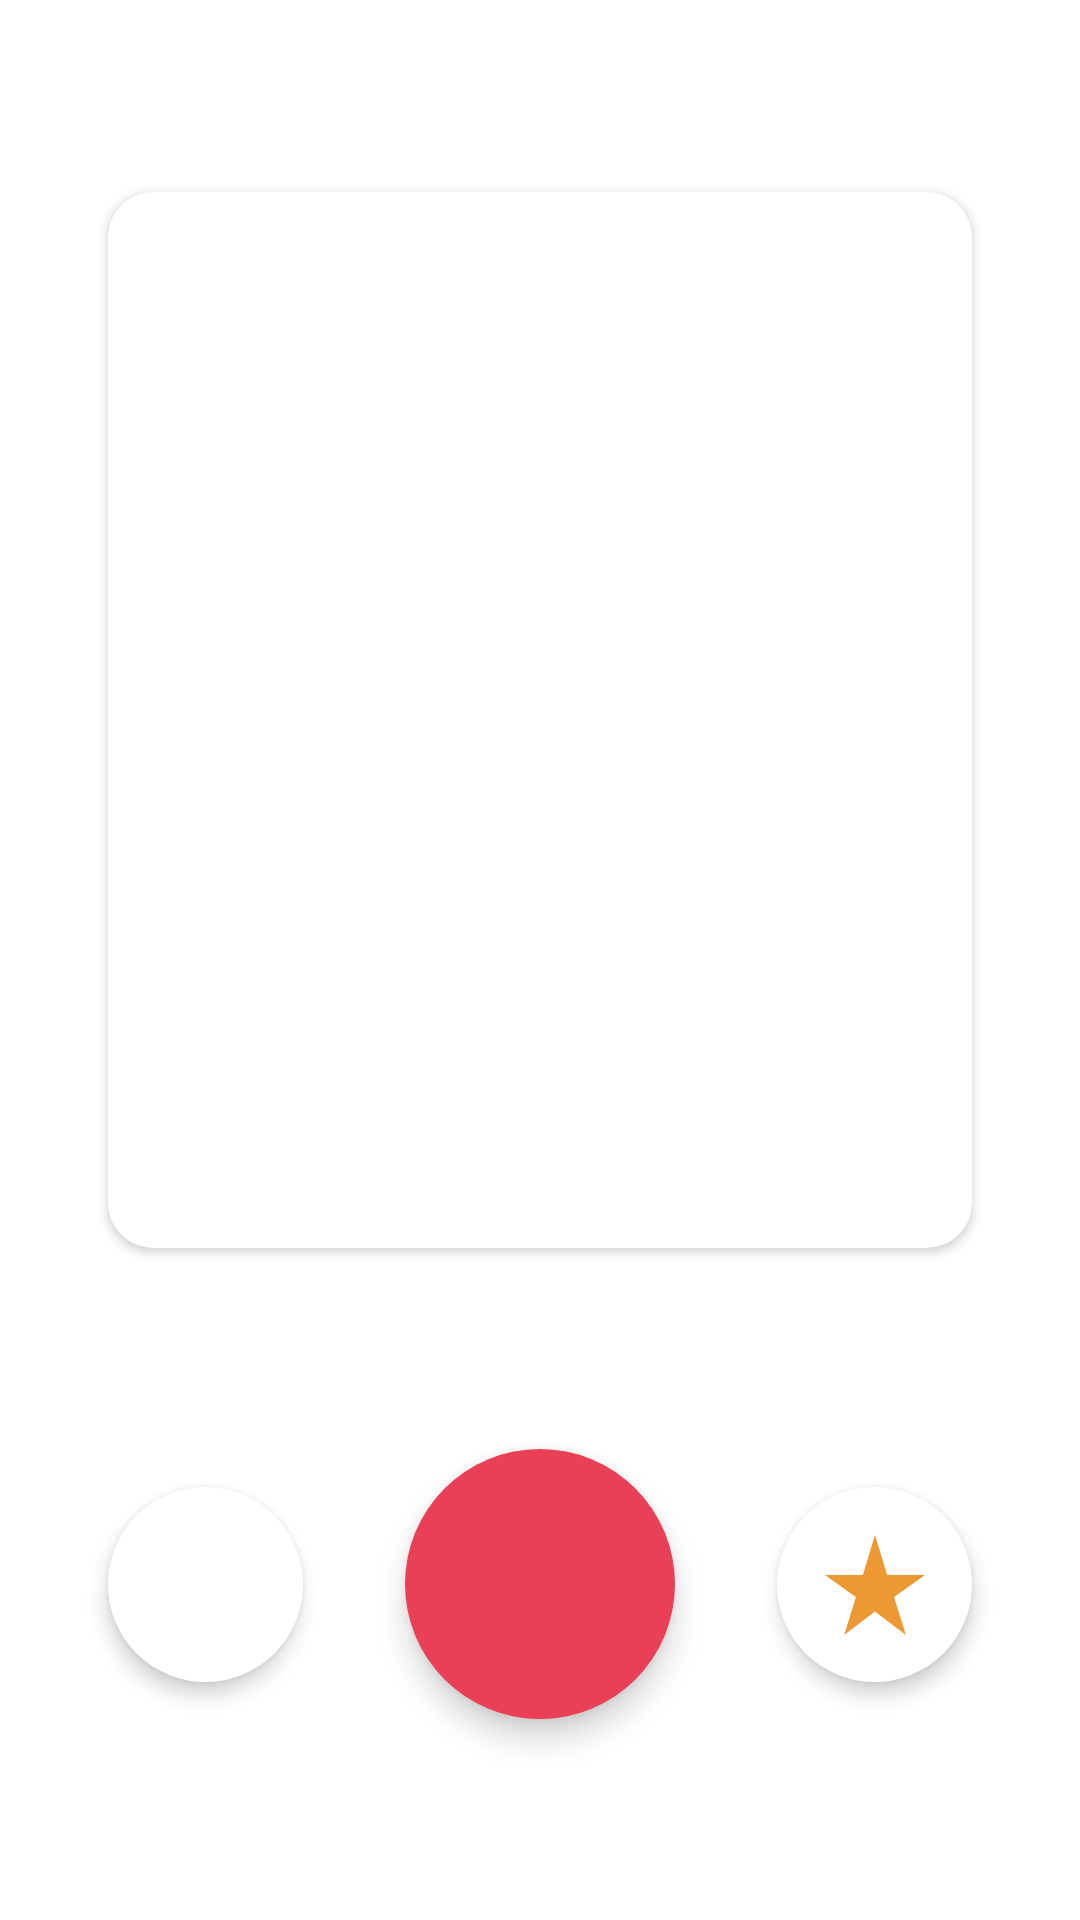

Named icons in this screenshot (1080x1920) and their bounding boxes, bbox=[x1, y1, x2, y2]:
Добавить в избранные: bbox=[781, 1535, 972, 1635]
